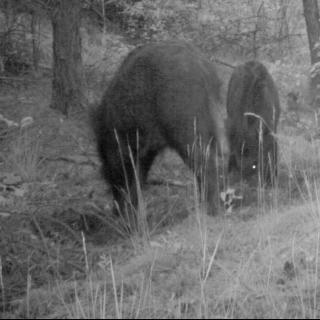Pig: (79, 35, 224, 246), (228, 59, 292, 195)
